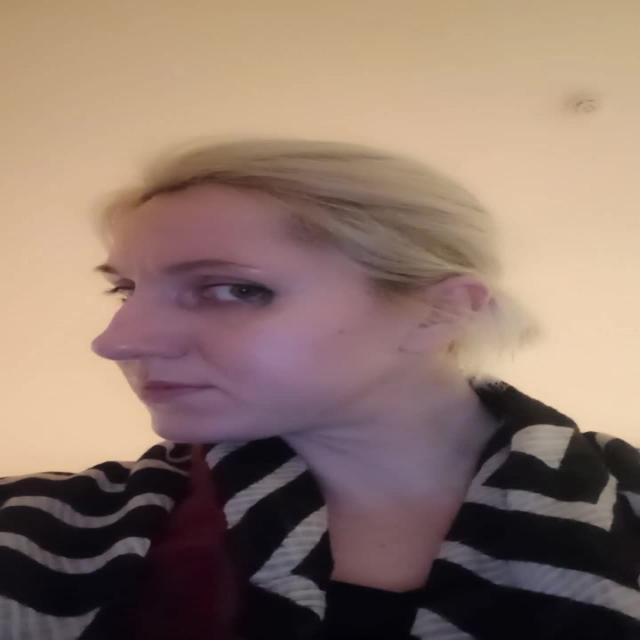earlobe: (399, 328, 439, 356)
eye: (195, 283, 266, 303), (114, 282, 139, 304)
nose: (88, 343, 199, 386)
wholeear: (403, 275, 493, 355)
